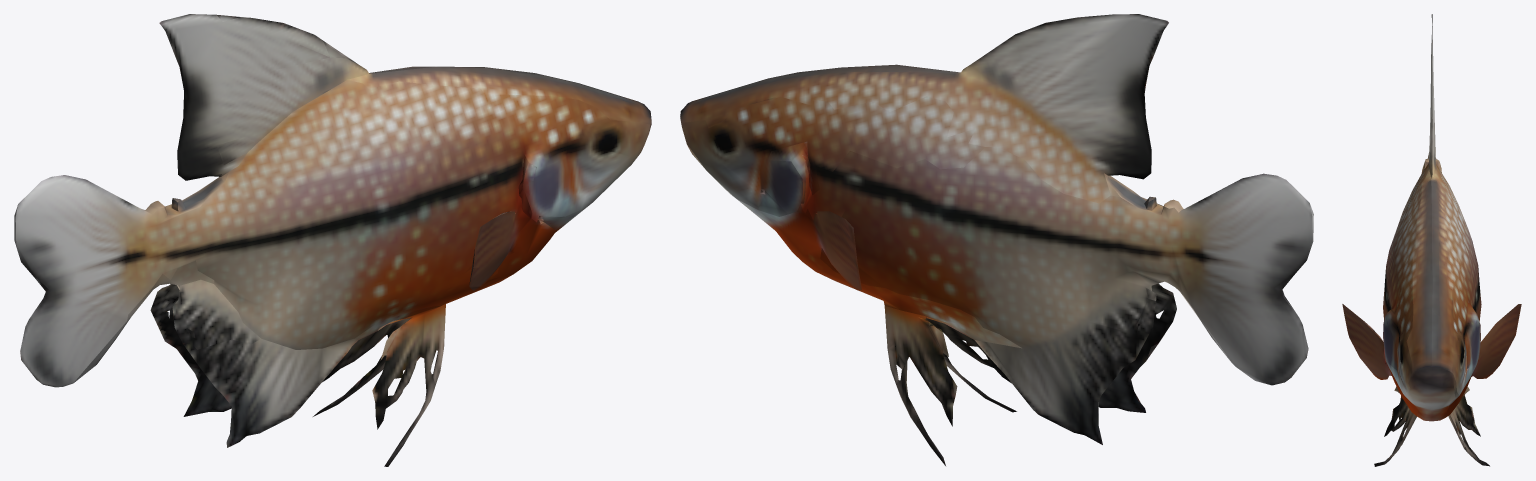
Rendered from pearl-gourami.glb.
The picture shows the model from 3 angles, left to right: view 1: azimuth 30°, elevation 25°; view 2: azimuth 150°, elevation 25°; view 3: azimuth 270°, elevation 25°; orthographic projection. The views are drawn at different scales.
Visible parts, largest first — view 1: geometry_0; view 2: geometry_0; view 3: geometry_0.
Boxes of the visible parts, x1=… form: geometry_0: x1=14, y1=14, x2=651, y2=466; geometry_0: x1=680, y1=14, x2=1313, y2=465; geometry_0: x1=1342, y1=14, x2=1521, y2=466.
Size of the model in its own units: 0.9986 by 0.7079 by 0.3041.
Materials: 1 (1 with a texture image).
